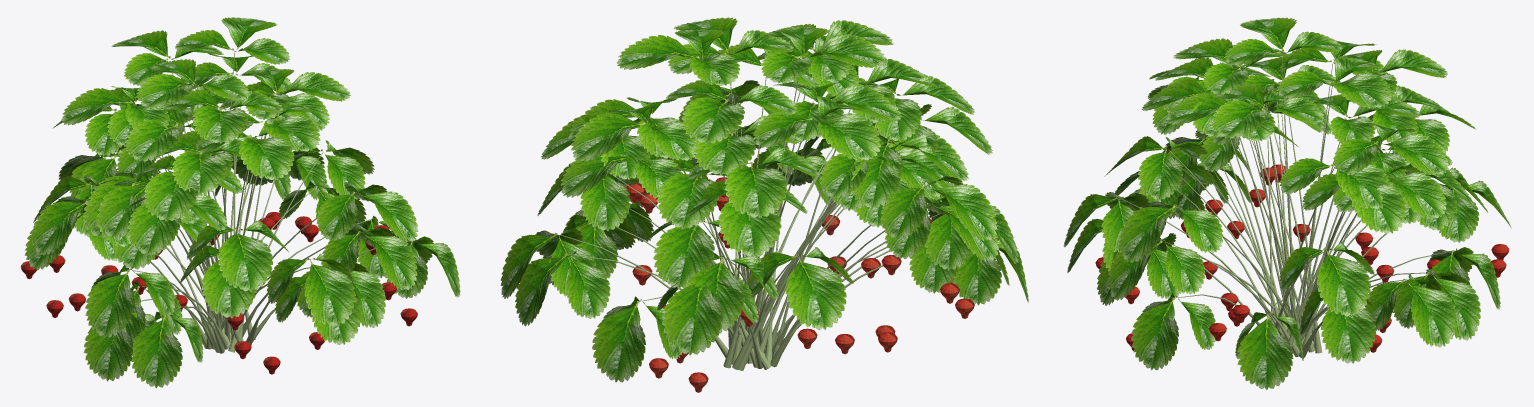
The model's file is Strawberry3.fbx.
The picture shows the model from 3 angles, left to right: view 1: azimuth 30°, elevation 25°; view 2: azimuth 150°, elevation 25°; view 3: azimuth 270°, elevation 25°; orthographic projection. The views are drawn at different scales.
Parts seen in each view (by area): view 1: strawberry3; view 2: strawberry3; view 3: strawberry3.
Part boxes in pixels (bbox=[...]): strawberry3: bbox=[20, 17, 460, 388]; strawberry3: bbox=[500, 17, 1028, 392]; strawberry3: bbox=[1063, 17, 1511, 389].
Size of the model in its own units: 63.78 by 63.37 by 46.16.
